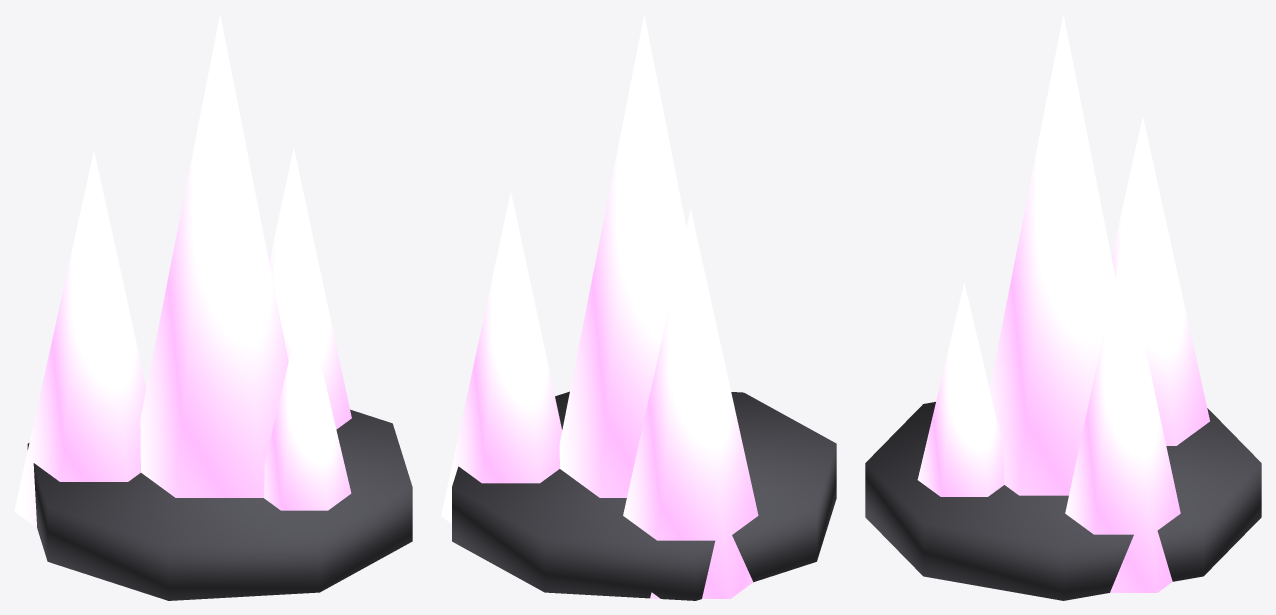
Rendered from orb_rune_crystal.glb.
The picture shows the model from 3 angles, left to right: view 1: azimuth 30°, elevation 25°; view 2: azimuth 150°, elevation 25°; view 3: azimuth 270°, elevation 25°; orthographic projection.
Parts seen in each view (by area): view 1: GD_orb_rune_crystal__m0, GD_orb_rune_crystal__m1; view 2: GD_orb_rune_crystal__m0, GD_orb_rune_crystal__m1; view 3: GD_orb_rune_crystal__m0, GD_orb_rune_crystal__m1.
Boxes of the visible parts, box(x1,y1,x2,y2) form: GD_orb_rune_crystal__m0: box(14, 14, 351, 527); GD_orb_rune_crystal__m1: box(27, 409, 412, 600); GD_orb_rune_crystal__m0: box(441, 15, 758, 598); GD_orb_rune_crystal__m1: box(452, 391, 836, 600); GD_orb_rune_crystal__m0: box(917, 14, 1209, 592); GD_orb_rune_crystal__m1: box(865, 402, 1261, 600).
Size of the model in its own units: 0.2 by 0.28 by 0.2.
